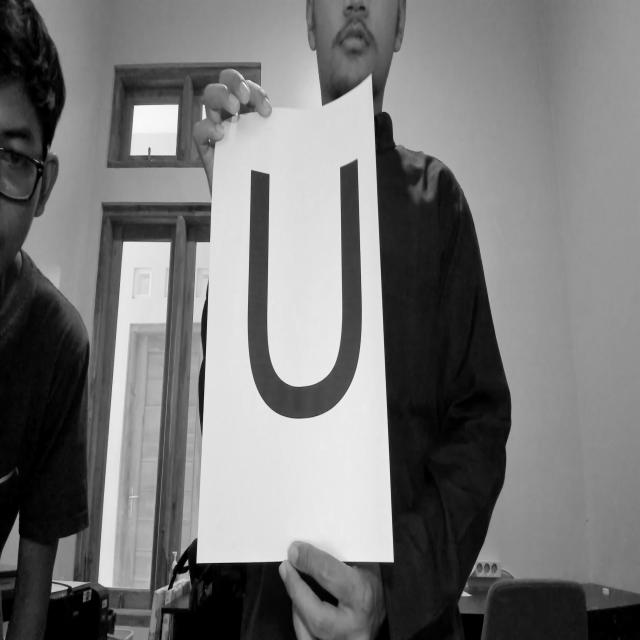u: (231, 157, 392, 449)
